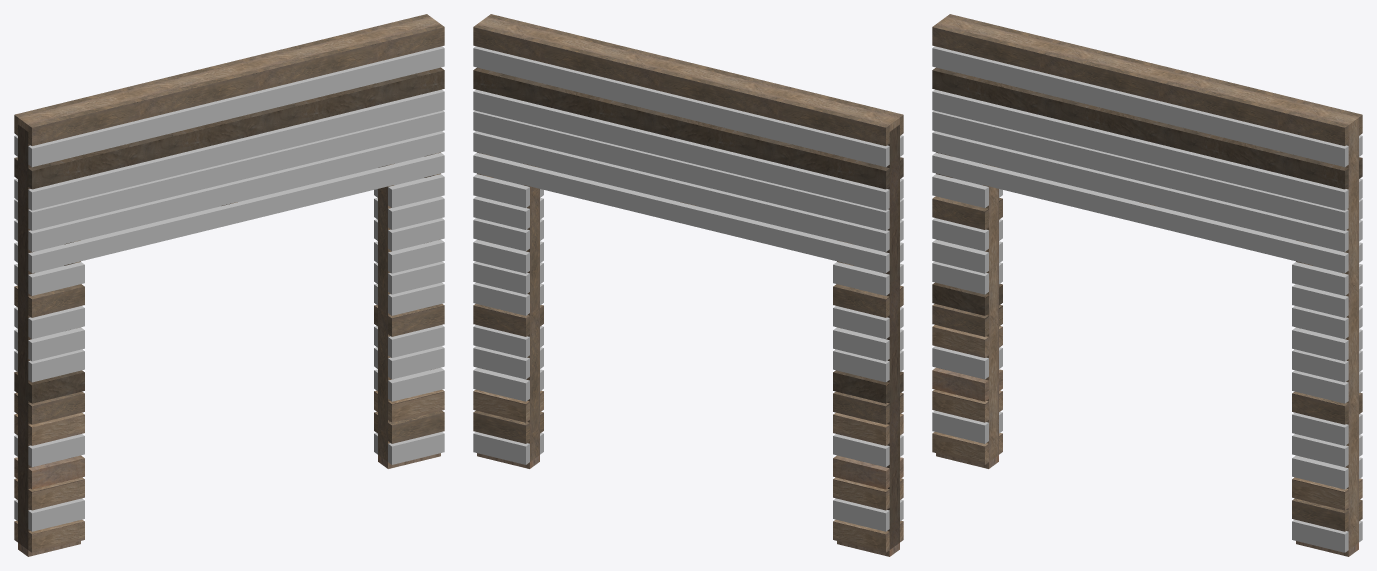
The model's file is WallPeiceDoorwayF.fbx.
The picture shows the model from 3 angles, left to right: view 1: azimuth 30°, elevation 25°; view 2: azimuth 150°, elevation 25°; view 3: azimuth 330°, elevation 25°; orthographic projection.
Parts seen in each view (by area): view 1: WallPeiceDoorwayF; view 2: WallPeiceDoorwayF; view 3: WallPeiceDoorwayF.
Part boxes in pixels (<box>): WallPeiceDoorwayF: <box>14,14,444,556</box>; WallPeiceDoorwayF: <box>473,14,903,556</box>; WallPeiceDoorwayF: <box>932,14,1362,556</box>.
Size of the model in its own units: 374 by 374 by 28.
